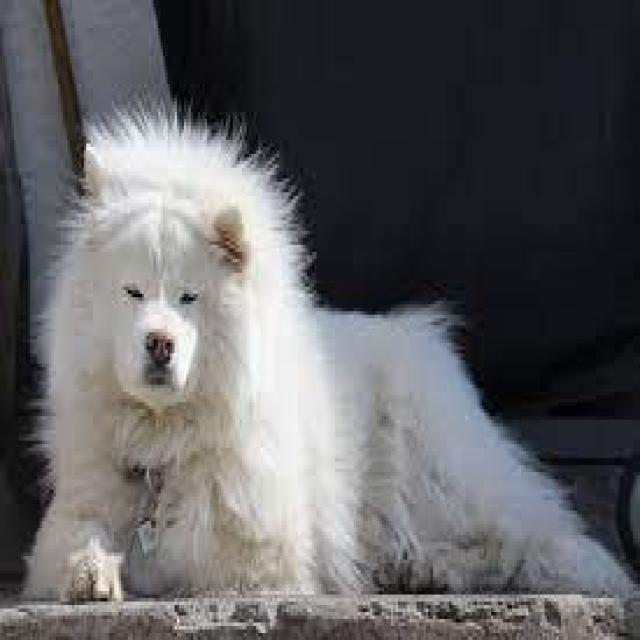dogs: (21, 98, 640, 598)
